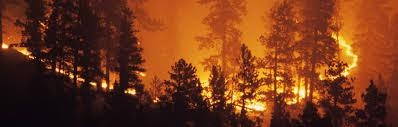fire: (216, 4, 359, 114), (99, 75, 116, 92), (124, 82, 138, 96), (137, 68, 147, 78)
